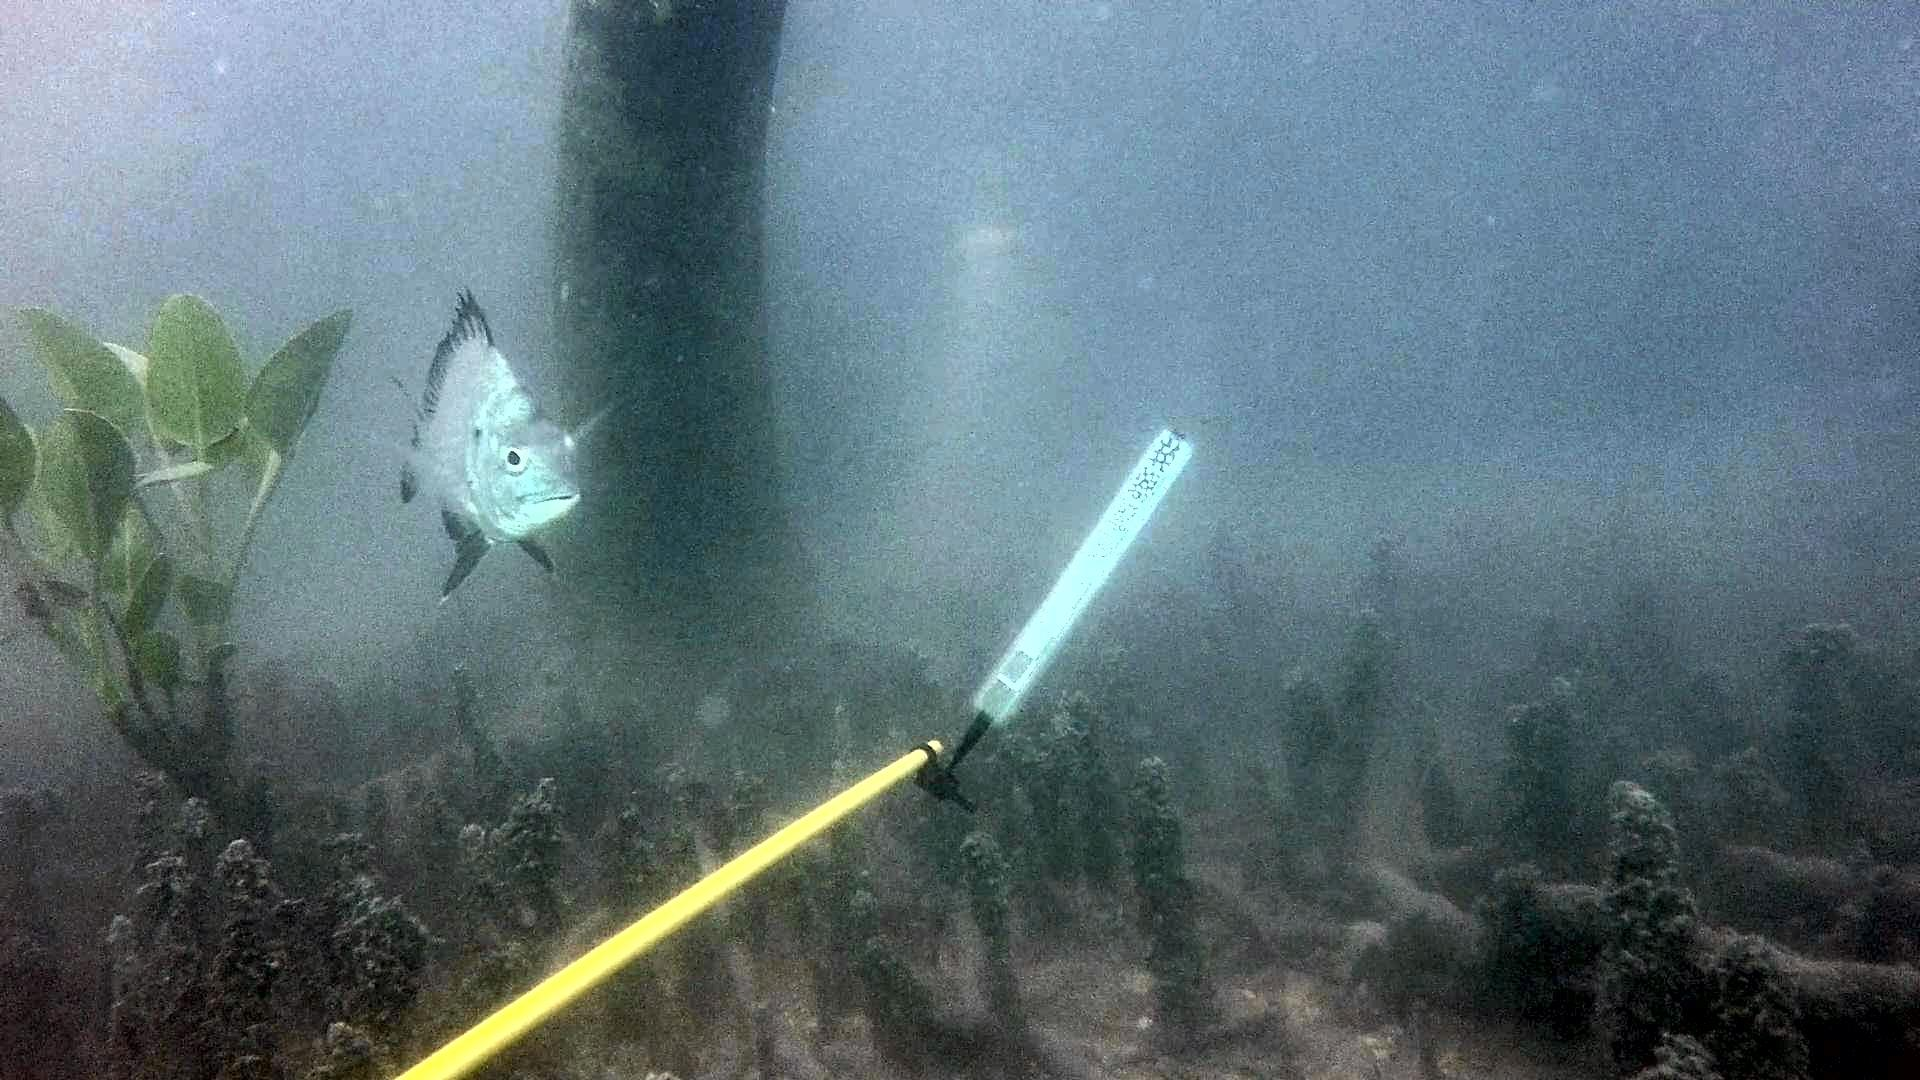acanthopagrus palmaris: (363, 286, 628, 613)
